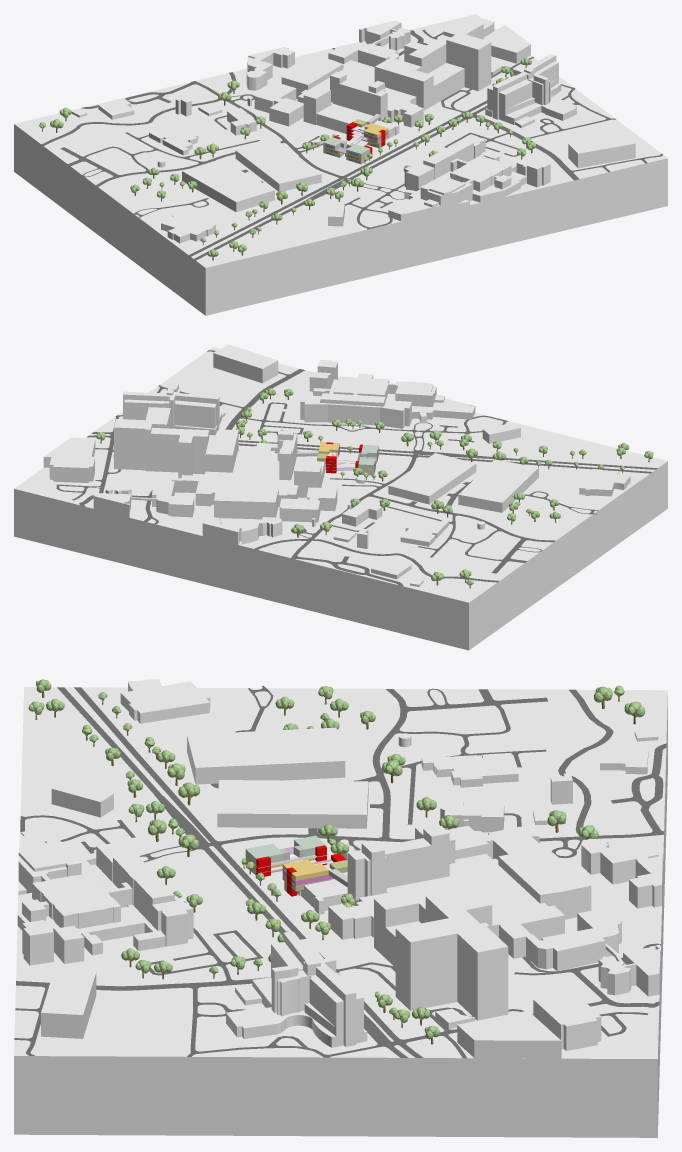
Rendered from trees.glb.
3 renders of one model, top to bottom at view 1: azimuth 30°, elevation 25°; view 2: azimuth 150°, elevation 25°; view 3: azimuth 270°, elevation 25°, orthographic. The views are drawn at different scales.
Parts seen in each view (by area): view 1: Mesh1 Group1 Model.001, Mesh30 Group30 Model, Mesh13 Group14 Model, Mesh9 Group12 Model, Mesh16 Group16 Model, Mesh15 Group15 Model, Mesh7 Group10 Model, Mesh36 Group36 Model, Mesh5 Component_1_1 Group8 Model, Mesh29 Group29 Model, Mesh35 Group35 Model, Mesh28 Group28 Model (+8 smaller); view 2: Mesh1 Group1 Model.001, Mesh30 Group30 Model, Mesh13 Group14 Model, Mesh9 Group12 Model, Mesh16 Group16 Model, Mesh15 Group15 Model, Mesh35 Group35 Model, Mesh7 Group10 Model, Mesh29 Group29 Model, Mesh36 Group36 Model, Mesh27 Group27 Model, Mesh17 Group17 Model (+8 smaller); view 3: Mesh1 Group1 Model.001, Mesh30 Group30 Model, Mesh13 Group14 Model, Mesh9 Group12 Model, Mesh16 Group16 Model, Mesh15 Group15 Model, Mesh5 Component_1_1 Group8 Model, Mesh28 Group28 Model, Mesh35 Group35 Model, Mesh29 Group29 Model, Mesh7 Group10 Model, Mesh17 Group17 Model (+12 smaller).
Part boxes in pixels (x1,y1,x2,y2): Mesh1 Group1 Model.001: (14, 14, 667, 315); Mesh30 Group30 Model: (297, 19, 491, 127); Mesh13 Group14 Model: (388, 135, 526, 221); Mesh9 Group12 Model: (485, 54, 576, 124); Mesh16 Group16 Model: (182, 159, 274, 212); Mesh15 Group15 Model: (235, 140, 321, 191); Mesh7 Group10 Model: (568, 133, 635, 168); Mesh36 Group36 Model: (254, 83, 303, 126); Mesh5 Component_1_1 Group8 Model: (330, 80, 387, 120); Mesh29 Group29 Model: (246, 47, 294, 90); Mesh35 Group35 Model: (281, 55, 343, 99); Mesh28 Group28 Model: (483, 25, 530, 63); Mesh1 Group1 Model.001: (14, 347, 667, 650); Mesh30 Group30 Model: (114, 407, 321, 517); Mesh13 Group14 Model: (300, 373, 475, 428); Mesh9 Group12 Model: (123, 383, 221, 435); Mesh16 Group16 Model: (458, 459, 538, 512); Mesh15 Group15 Model: (388, 453, 476, 504); Mesh35 Group35 Model: (214, 486, 278, 519); Mesh7 Group10 Model: (213, 344, 278, 383); Mesh29 Group29 Model: (202, 517, 282, 544); Mesh36 Group36 Model: (279, 487, 337, 522); Mesh27 Group27 Model: (49, 455, 94, 482); Mesh17 Group17 Model: (579, 469, 630, 496); Mesh1 Group1 Model.001: (14, 685, 667, 1137); Mesh30 Group30 Model: (328, 823, 621, 1020); Mesh13 Group14 Model: (17, 828, 193, 955); Mesh9 Group12 Model: (226, 931, 367, 1047); Mesh16 Group16 Model: (187, 727, 345, 784); Mesh15 Group15 Model: (217, 780, 368, 828); Mesh5 Component_1_1 Group8 Model: (347, 838, 449, 900); Mesh28 Group28 Model: (457, 1010, 561, 1058); Mesh35 Group35 Model: (498, 847, 591, 919); Mesh29 Group29 Model: (581, 838, 662, 908); Mesh7 Group10 Model: (41, 969, 96, 1038); Mesh17 Group17 Model: (120, 679, 210, 723).
Bounding box in the file's own units: 2505 × 460 × 1854.
